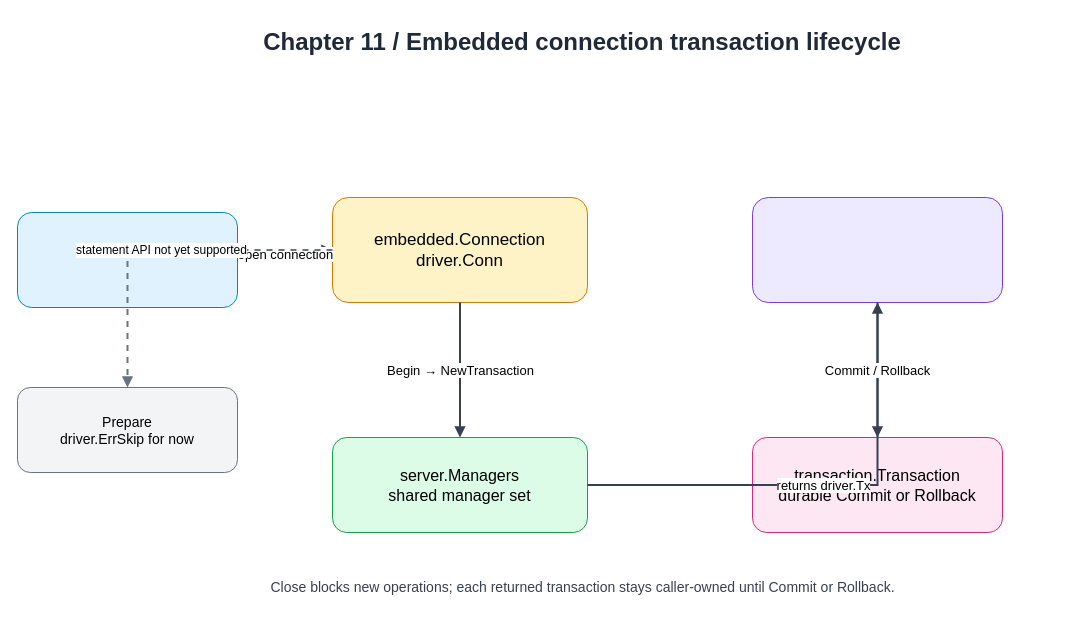
This 1080x629 diagram has some shape labels left out. The centre of each missing label's shape, as x and y in pixels:
"Go application database/sql/driver caller" belongs at (127,260).
"transactionAdapter driver.Tx" belongs at (877,249).
